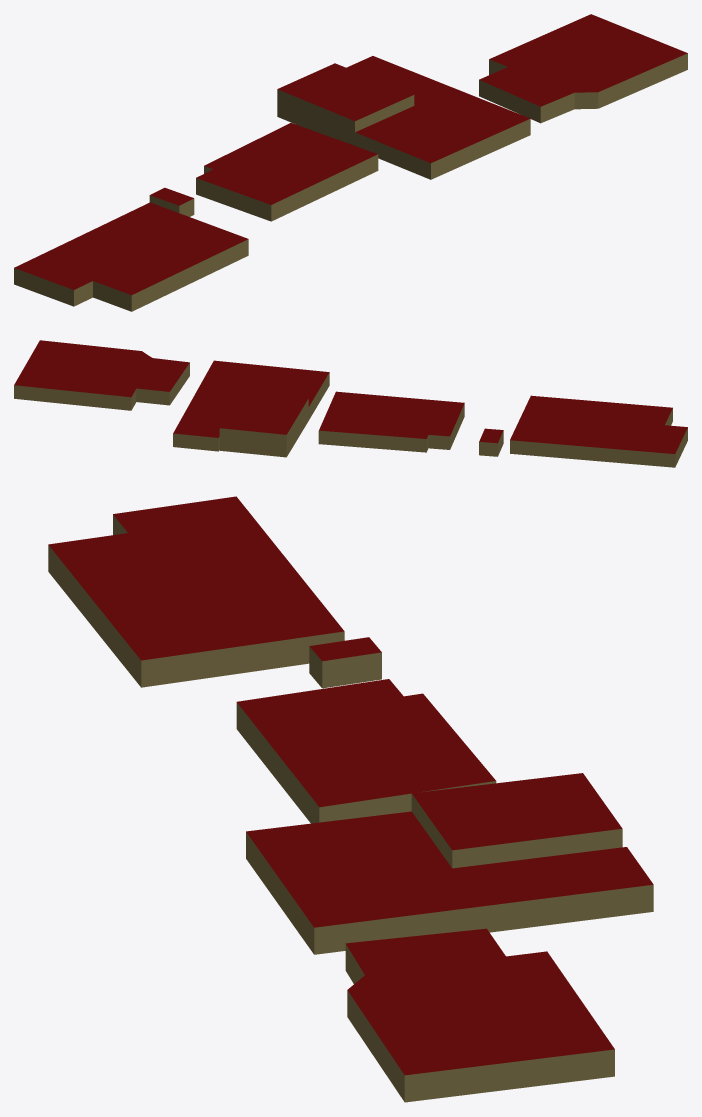
Rendered from Ingolstadt_Tile_10_6.obj.
The picture shows the model from 3 angles, top to bottom: view 1: azimuth 30°, elevation 25°; view 2: azimuth 150°, elevation 25°; view 3: azimuth 270°, elevation 25°; orthographic projection. The views are drawn at different scales.
Visible parts, largest first — view 1: Building tedox, object 3, Building1, Building2, Building0, Building3; view 2: Building tedox, object 3, Building2, Building1, Building0, Building3; view 3: Building tedox, Building1, object 3, Building2, Building0, Building3.
Part boxes in pixels (<box>): Building tedox: <box>14,202,248,311</box>; object 3: <box>479,14,687,123</box>; Building1: <box>346,56,530,179</box>; Building2: <box>196,123,378,221</box>; Building0: <box>277,63,414,145</box>; Building3: <box>149,187,194,216</box>; Building tedox: <box>510,395,687,467</box>; object 3: <box>14,340,189,410</box>; Building2: <box>318,391,464,452</box>; Building1: <box>173,360,329,451</box>; Building0: <box>219,391,308,457</box>; Building3: <box>479,428,503,456</box>; Building tedox: <box>48,496,344,687</box>; Building1: <box>246,811,653,954</box>; object 3: <box>345,928,614,1102</box>; Building2: <box>236,679,496,823</box>; Building0: <box>411,773,622,868</box>; Building3: <box>309,637,381,688</box>.
Size of the model in its own units: 343 by 12.5 by 152.
